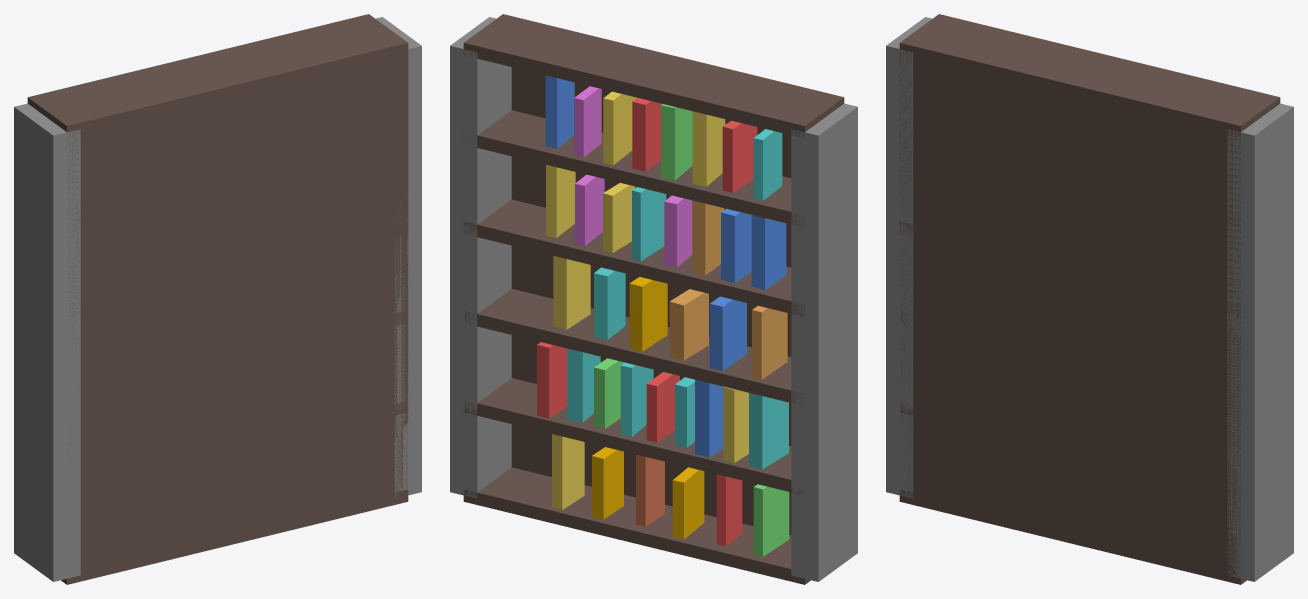
3 renders of one model, left to right at view 1: azimuth 30°, elevation 25°; view 2: azimuth 150°, elevation 25°; view 3: azimuth 330°, elevation 25°, orthographic.
Parts seen in each view (by area): view 1: Cube.002, Cube, Cube.008, Cube.001, Cube.006, Cube.005, Cube.004, Cube.003, Cube.007; view 2: Cube, Cube.001, Cube.008, Cube.002, Cube.003, Cube.005, Cube.006, Cube.007, Cube.004, Book.006, Book.018, Book.016 (+34 smaller); view 3: Cube.002, Cube.001, Cube.008, Cube, Cube.003, Cube.006, Cube.004, Cube.005, Cube.007.
Part boxes in pixels (bbox=[...]): Cube.002: bbox=[67, 49, 408, 575]; Cube: bbox=[14, 103, 80, 581]; Cube.008: bbox=[27, 14, 408, 137]; Cube.001: bbox=[376, 17, 421, 498]; Cube.006: bbox=[72, 221, 408, 315]; Cube.005: bbox=[81, 311, 407, 401]; Cube.004: bbox=[80, 401, 408, 491]; Cube.003: bbox=[61, 489, 408, 584]; Cube.007: bbox=[76, 132, 408, 223]; Cube: bbox=[791, 103, 857, 581]; Cube.001: bbox=[450, 17, 511, 498]; Cube.008: bbox=[463, 14, 844, 137]; Cube.002: bbox=[511, 67, 791, 535]; Cube.003: bbox=[463, 467, 810, 584]; Cube.005: bbox=[463, 289, 804, 405]; Cube.006: bbox=[463, 199, 804, 316]; Cube.007: bbox=[463, 110, 804, 226]; Cube.004: bbox=[463, 378, 804, 494]; Book.006: bbox=[749, 393, 788, 469]; Book.018: bbox=[629, 277, 667, 351]; Book.016: bbox=[709, 296, 746, 371]; Cube.002: bbox=[899, 50, 1240, 577]; Cube.001: bbox=[1227, 103, 1293, 581]; Cube.008: bbox=[899, 14, 1280, 137]; Cube: bbox=[886, 17, 931, 498]; Cube.003: bbox=[899, 489, 1246, 584]; Cube.006: bbox=[899, 221, 1240, 316]; Cube.004: bbox=[899, 402, 1237, 493]; Cube.005: bbox=[899, 311, 1240, 405]; Cube.007: bbox=[899, 132, 1238, 226].
Size of the model in its own units: 2.16 by 2.57 by 0.4.
